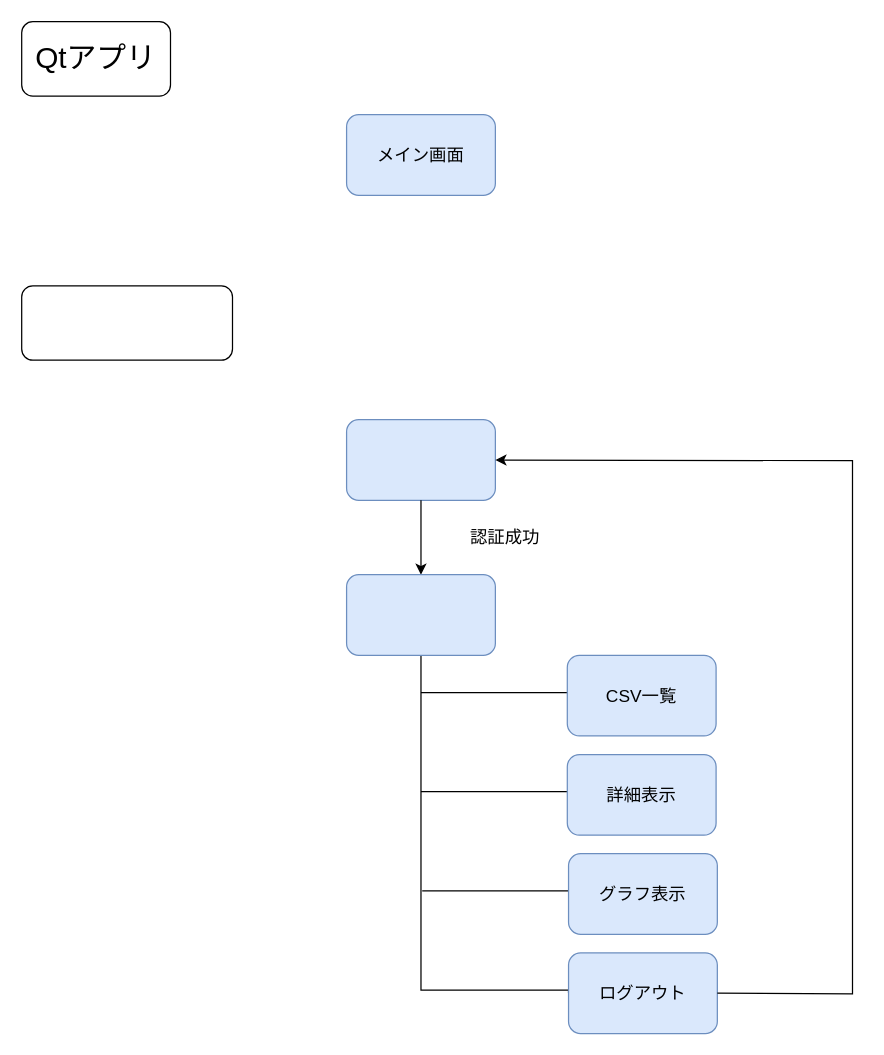
This 884x1055 diagram has some shape labels left out. The shapes that lost their labels are listed below. From the top down, each one's box as (x1, y1, x2, y2) in pixels, then its label:
(20, 285, 232, 360): Djangoアプリ
(345, 418, 495, 500): ログイン画面
(345, 574, 495, 655): メインページ
